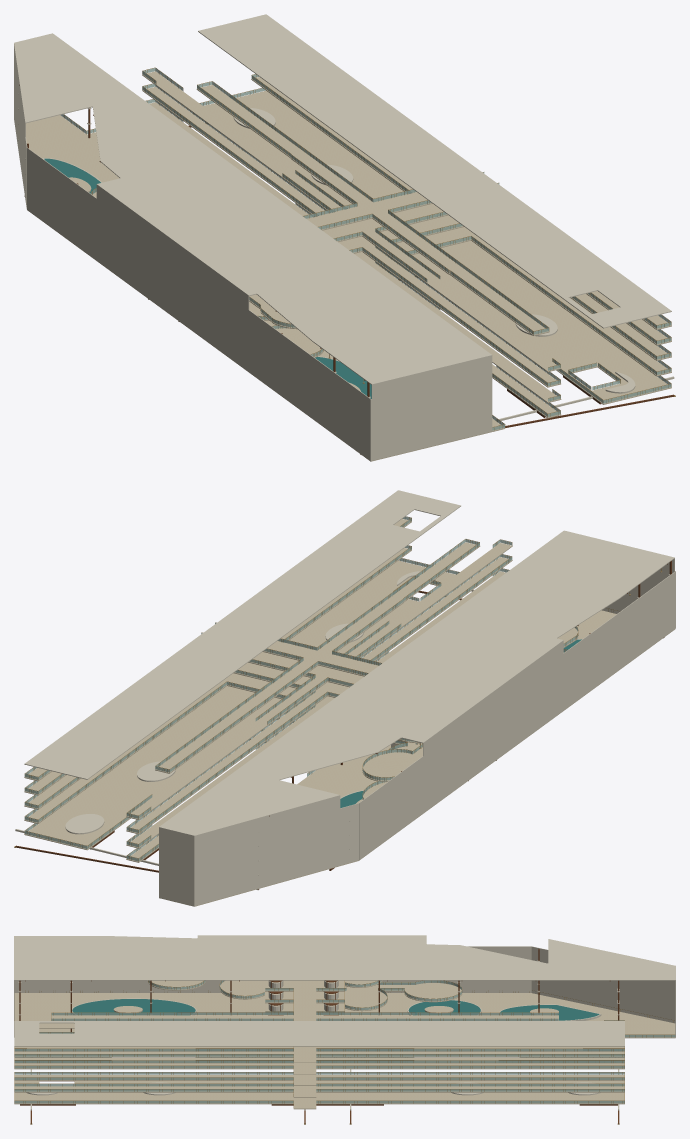
The model's file is architecture.glb.
3 renders of one model, top to bottom at view 1: azimuth 30°, elevation 25°; view 2: azimuth 150°, elevation 25°; view 3: azimuth 270°, elevation 25°, orthographic. The views are drawn at different scales.
Parts seen in each view (by area): view 1: TG_Batch_294, TG_Batch_295, TG_Batch_2, TG_Batch_327, TG_Batch_326, TG_Batch_324, TG_Batch_325, TG_Batch_24, TG_Batch_0, TG_Batch_46, TG_Batch_68, TG_Batch_90 (+21 smaller); view 2: TG_Batch_294, TG_Batch_295, TG_Batch_2, TG_Batch_327, TG_Batch_326, TG_Batch_324, TG_Batch_325, TG_Batch_23, TG_Batch_45, TG_Batch_67, TG_Batch_0, TG_Batch_322 (+21 smaller); view 3: TG_Batch_294, TG_Batch_295, TG_Batch_2, TG_Batch_0, TG_Batch_23, TG_Batch_324, TG_Batch_24, TG_Batch_228, TG_Batch_236, TG_Batch_68, TG_Batch_67, TG_Batch_181 (+44 smaller).
Part boxes in pixels (box(x1,y1,x2,y2)): TG_Batch_294: box(14, 33, 491, 384); TG_Batch_295: box(198, 14, 671, 328); TG_Batch_2: box(203, 90, 671, 418); TG_Batch_327: box(27, 147, 370, 414); TG_Batch_326: box(27, 163, 370, 429); TG_Batch_324: box(27, 194, 370, 460); TG_Batch_325: box(27, 179, 370, 445); TG_Batch_24: box(369, 238, 671, 402); TG_Batch_0: box(26, 115, 491, 461); TG_Batch_46: box(362, 248, 671, 387); TG_Batch_68: box(362, 232, 671, 371); TG_Batch_90: box(249, 227, 549, 335); TG_Batch_294: box(159, 530, 674, 835); TG_Batch_295: box(24, 490, 460, 779); TG_Batch_2: box(24, 560, 455, 850); TG_Batch_327: box(359, 571, 675, 817); TG_Batch_326: box(359, 586, 675, 831); TG_Batch_324: box(359, 614, 675, 859); TG_Batch_325: box(359, 600, 675, 845); TG_Batch_23: box(24, 683, 320, 848); TG_Batch_45: box(24, 692, 327, 834); TG_Batch_67: box(24, 678, 327, 819); TG_Batch_0: box(159, 610, 675, 906); TG_Batch_322: box(194, 803, 358, 863); TG_Batch_294: box(14, 935, 675, 980); TG_Batch_295: box(14, 1021, 624, 1046); TG_Batch_2: box(14, 1058, 624, 1104); TG_Batch_0: box(14, 993, 675, 1038); TG_Batch_23: box(316, 1046, 624, 1092); TG_Batch_324: box(14, 981, 531, 992); TG_Batch_24: box(14, 1046, 293, 1092); TG_Batch_228: box(14, 1013, 293, 1056); TG_Batch_236: box(316, 1013, 624, 1056); TG_Batch_68: box(14, 1023, 293, 1069); TG_Batch_67: box(316, 1063, 624, 1069); TG_Batch_181: box(316, 991, 624, 1091).
Bounding box in the file's own units: 96.39 × 28.26 × 232.
9 materials, 6 textured.
